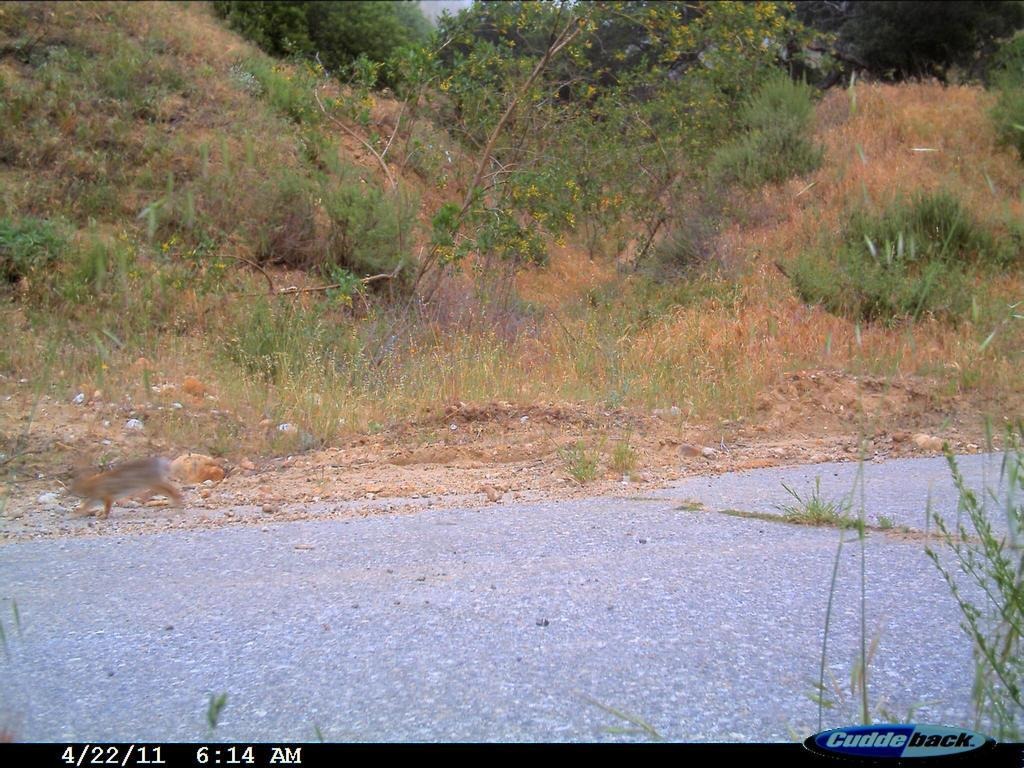rabbit: (54, 443, 196, 530)
